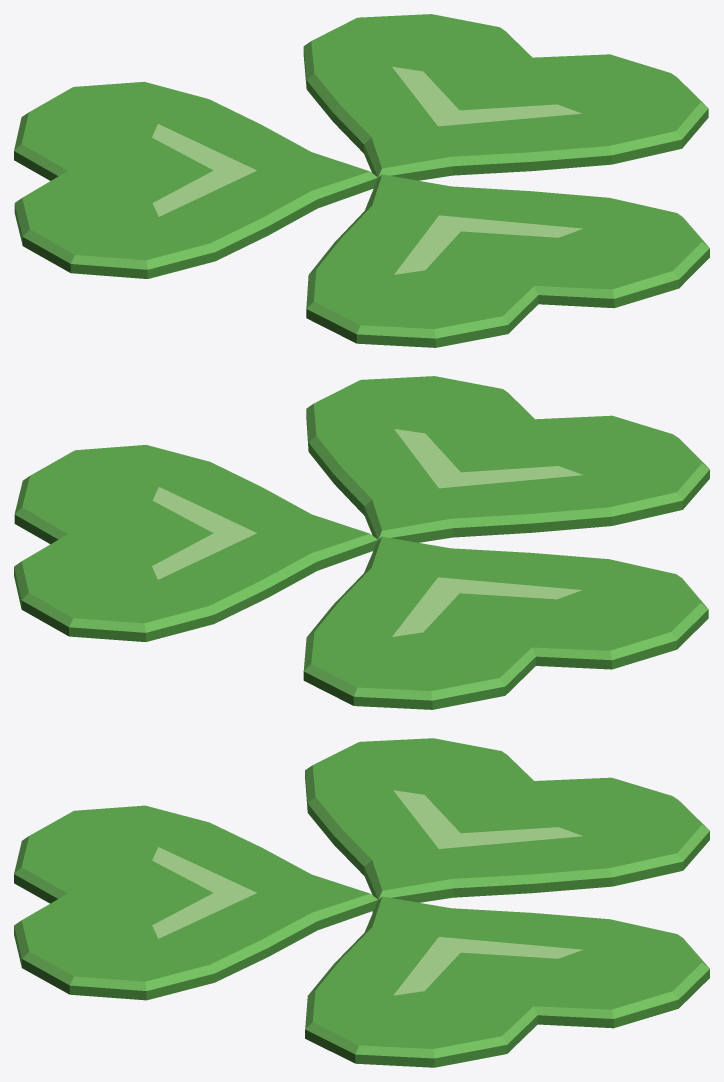
The model's file is clover.glb.
3 views of the same model, one above another, from view 1: azimuth 30°, elevation 25°; view 2: azimuth 150°, elevation 25°; view 3: azimuth 270°, elevation 25° (orthographic).
Parts seen in each view (by area): view 1: clover; view 2: clover; view 3: clover.
Part boxes in pixels (x1,y1,x2,y2): clover: (14, 14, 709, 347); clover: (14, 376, 709, 709); clover: (14, 738, 709, 1067).
Bounding box in the file's own units: 15 × 1.51 × 13.9.
